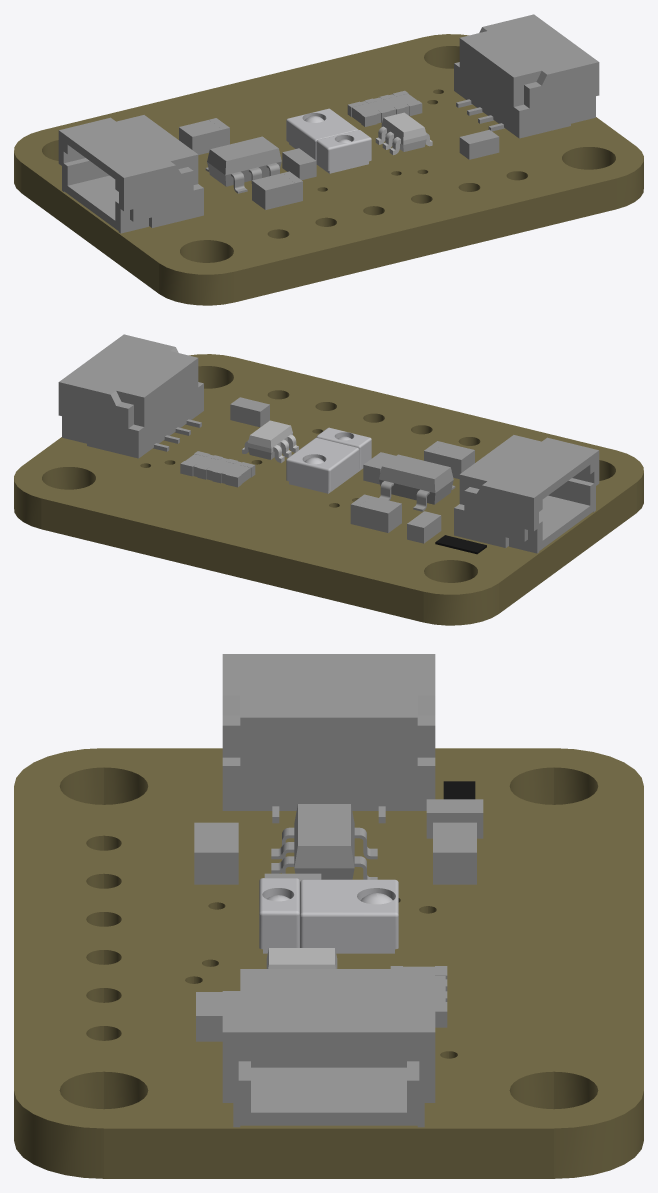
Rendered from ada-3595.glb.
3 views of the same model, one above another, from view 1: azimuth 30°, elevation 25°; view 2: azimuth 150°, elevation 25°; view 3: azimuth 270°, elevation 25° (orthographic). The views are drawn at different scales.
Visible parts, largest first — view 1: 0.16666666666666666_0.16666666666666666_0.08333333333333333_, 0.3333333333333333_0.3333333333333333_0.3333333333333333_0, 0.5833333333333334_0.5833333333333334_0.5833333333333334_0.8, 0.5_0.5_0.5_0.85; view 2: 0.16666666666666666_0.16666666666666666_0.08333333333333333_, 0.3333333333333333_0.3333333333333333_0.3333333333333333_0, 0.5833333333333334_0.5833333333333334_0.5833333333333334_0.8, 0.5_0.5_0.5_0.85, 0_0_0_0; view 3: 0.16666666666666666_0.16666666666666666_0.08333333333333333_, 0.3333333333333333_0.3333333333333333_0.3333333333333333_0, 0.5833333333333334_0.5833333333333334_0.5833333333333334_0.8, 0.5_0.5_0.5_0.85.
Part boxes in pixels (bbox=[...]): 0.16666666666666666_0.16666666666666666_0.08333333333333333_: bbox=[14, 34, 643, 305]; 0.3333333333333333_0.3333333333333333_0.3333333333333333_0: bbox=[58, 14, 599, 233]; 0.5833333333333334_0.5833333333333334_0.5833333333333334_0.8: bbox=[286, 108, 371, 173]; 0.5_0.5_0.5_0.85: bbox=[375, 112, 432, 155]; 0.16666666666666666_0.16666666666666666_0.08333333333333333_: bbox=[14, 354, 643, 625]; 0.3333333333333333_0.3333333333333333_0.3333333333333333_0: bbox=[58, 334, 599, 553]; 0.5833333333333334_0.5833333333333334_0.5833333333333334_0.8: bbox=[286, 427, 371, 493]; 0.5_0.5_0.5_0.85: bbox=[242, 420, 298, 462]; 0_0_0_0: bbox=[435, 535, 486, 554]; 0.16666666666666666_0.16666666666666666_0.08333333333333333_: bbox=[14, 748, 643, 1178]; 0.3333333333333333_0.3333333333333333_0.3333333333333333_0: bbox=[194, 654, 483, 1127]; 0.5833333333333334_0.5833333333333334_0.5833333333333334_0.8: bbox=[259, 878, 398, 953]; 0.5_0.5_0.5_0.85: bbox=[266, 948, 337, 968].
Bounding box in the file's own units: 2.54 × 0.4529 × 1.78.
